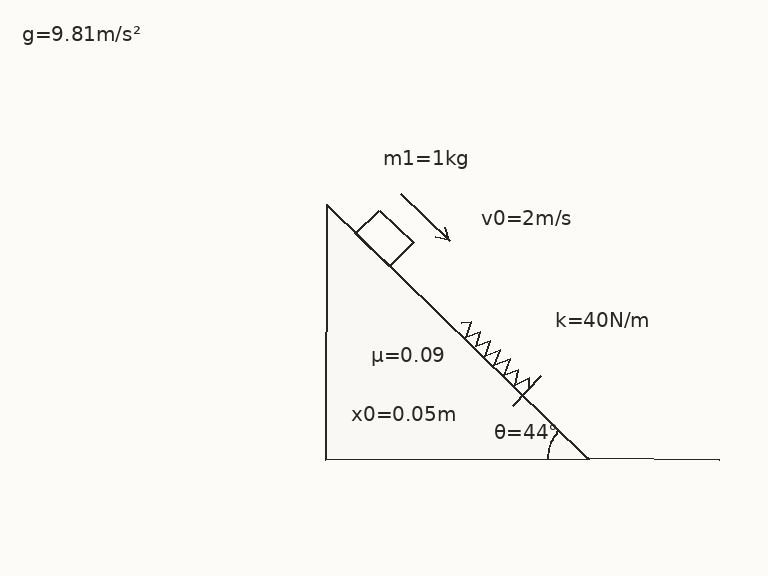block: (354, 207, 415, 268)
ramp: (324, 203, 590, 460)
spring: (459, 320, 531, 390)
